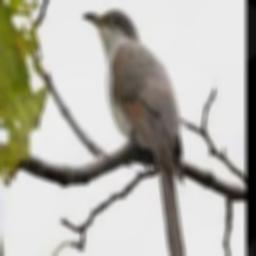Cuckoo: (82, 9, 186, 256)
